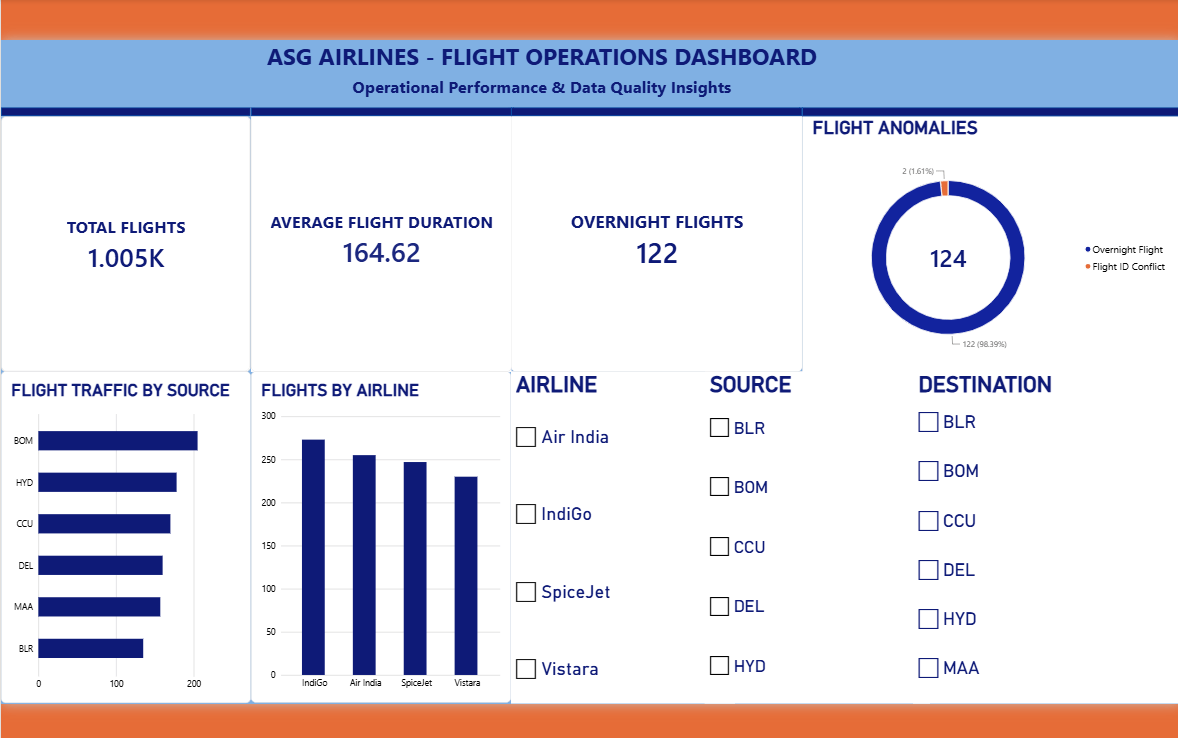

The page's visual inventory and layout, read from the dashboard file:
{"tool":"powerbi","page":{"name":"Overview","canvas":[1920,1080],"ordinal":0},"visuals":[{"type":"cardVisual","fields":{"Data":["CountNonNull(cleaned_flights.flight_id)"]},"box":[0,124,406,416],"z":0},{"type":"cardVisual","fields":{"Data":["Avg(cleaned_flights.duration_minutes)"]},"box":[406,110,424,430],"z":1000},{"type":"clusteredColumnChart","title":"FLIGHTS BY AIRLINE","fields":{"Category":["cleaned_flights.airline"],"Y":["CountNonNull(cleaned_flights.flight_id)"]},"box":[406.9,539.1,423.1,539.1],"z":2000},{"type":"clusteredBarChart","title":"FLIGHT TRAFFIC BY SOURCE","fields":{"Category":["route_traffic.source","route_traffic.destination"],"Y":["Sum(route_traffic.flight_count)"]},"box":[0,540,406,540],"z":3000},{"type":"donutChart","title":"FLIGHT ANOMALIES","fields":{"Category":["anomaly_summary.anomaly_type"],"Y":["Sum(anomaly_summary.count)"]},"box":[1304,109.9,616.4,439.4],"z":4000},{"type":"slicer","fields":{"Values":["cleaned_flights.airline"]},"box":[830,539.1,364.1,541.1],"z":5000},{"type":"slicer","fields":{"Values":["cleaned_flights.source"]},"box":[1145.3,539.1,366.2,541.1],"z":6000},{"type":"slicer","fields":{"Values":["cleaned_flights.destination"]},"box":[1485.1,539.1,435.3,541.1],"z":7000},{"type":"textbox","box":[378,0,1004,168],"z":8000},{"type":"textbox","box":[378,56,1004,224],"z":9000},{"type":"cardVisual","fields":{"Data":["Sum(anomaly_summary.count)"]},"box":[830,110,474,430],"z":10000},{"type":"shape","box":[0,110,406,14],"z":11000},{"type":"shape","box":[406,110,424,14],"z":12000},{"type":"shape","box":[830,110,474,14],"z":13000},{"type":"shape","box":[1304,109.9,616.4,14.2],"z":14000}]}

Visuals, with their boxes on the page's 1920x1080 design canvas (x1, y1, x2, y2). These are canvas units, not pixel positions in the 1178x738 screenshot, which may show the page scaled, cropped or inside an application window:
cardVisual - CountNonNull(cleaned_flights.flight_id): BBox(0, 124, 406, 540)
cardVisual - Avg(cleaned_flights.duration_minutes): BBox(406, 110, 830, 540)
"FLIGHTS BY AIRLINE" clusteredColumnChart: BBox(407, 539, 830, 1078)
"FLIGHT TRAFFIC BY SOURCE" clusteredBarChart: BBox(0, 540, 406, 1080)
"FLIGHT ANOMALIES" donutChart: BBox(1304, 110, 1920, 549)
slicer - cleaned_flights.airline: BBox(830, 539, 1194, 1080)
slicer - cleaned_flights.source: BBox(1145, 539, 1512, 1080)
slicer - cleaned_flights.destination: BBox(1485, 539, 1920, 1080)
textbox: BBox(378, 0, 1382, 168)
textbox: BBox(378, 56, 1382, 280)
cardVisual - Sum(anomaly_summary.count): BBox(830, 110, 1304, 540)
shape: BBox(0, 110, 406, 124)
shape: BBox(406, 110, 830, 124)
shape: BBox(830, 110, 1304, 124)
shape: BBox(1304, 110, 1920, 124)
